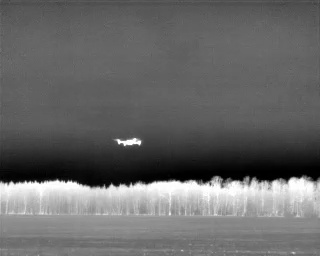DRONE: (110, 132, 147, 153)
